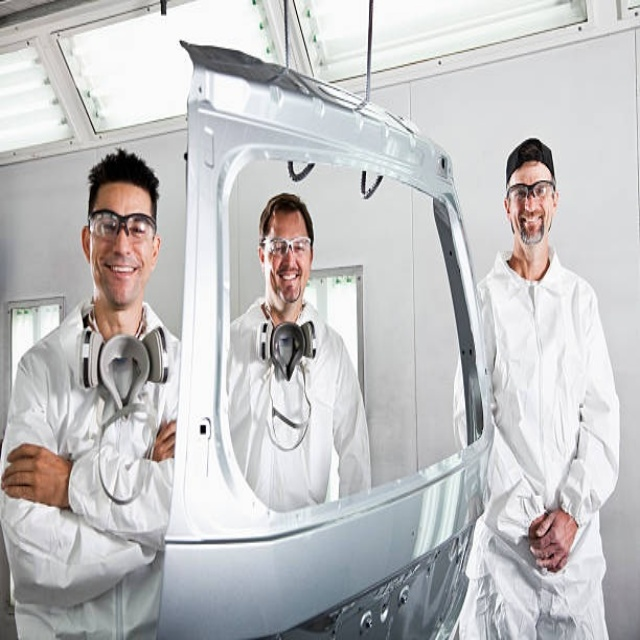Gafas: (88, 204, 157, 246), (506, 176, 556, 202), (262, 235, 313, 256)
Sin_guantes: (2, 443, 68, 506), (529, 508, 576, 573), (150, 417, 177, 462)
Sin_mascara: (101, 257, 138, 296), (276, 264, 302, 295), (519, 212, 544, 240)
